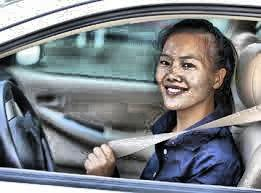seatbelt: (110, 99, 259, 156)
